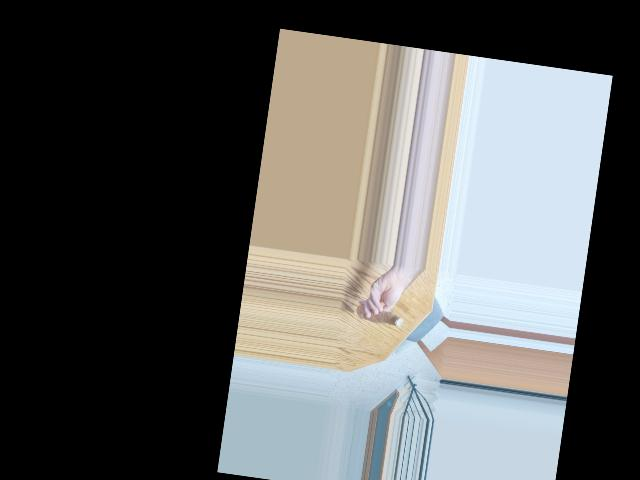sweet_potato: (355, 301, 406, 329)
